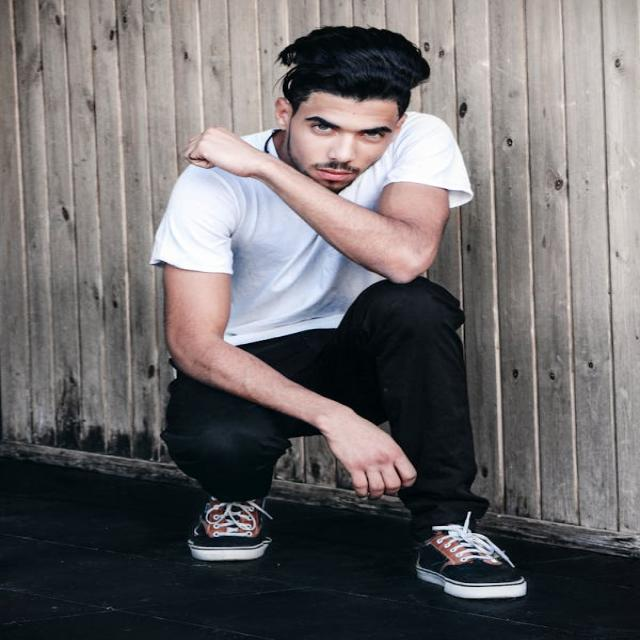Real human 2: (137, 14, 563, 629)
